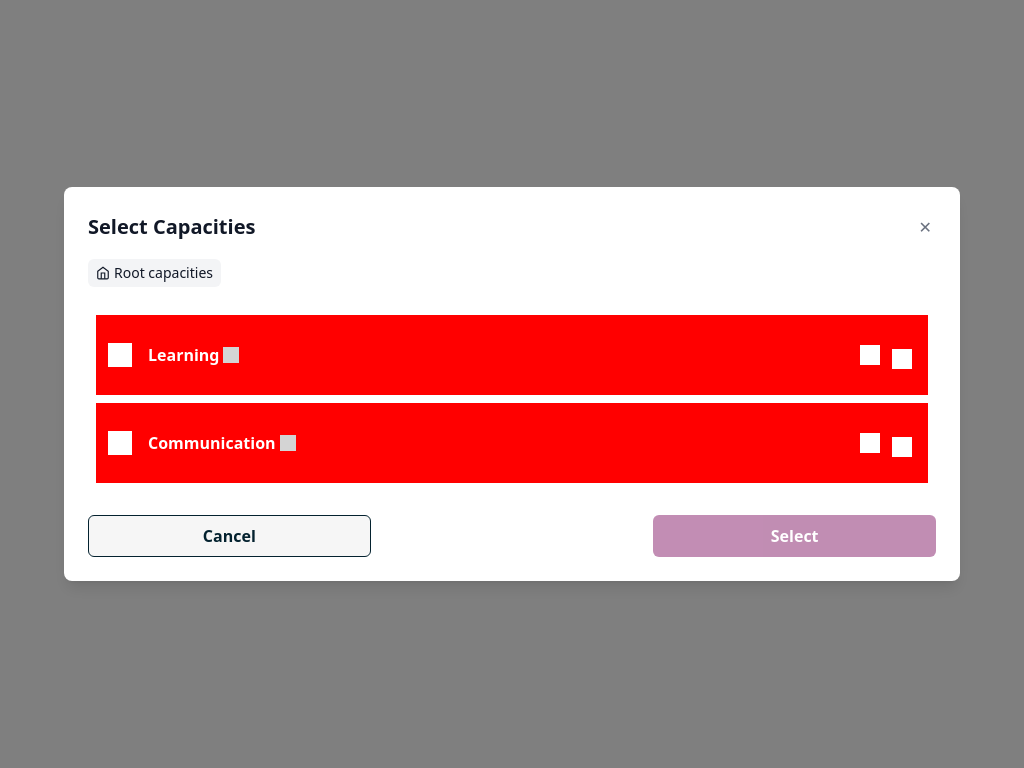
Test: CapacitySelectionModal › Multiple Selection › should update button text with the number of selected capacities
Expected: the text "Learning" is shown, top-left (148, 343), bottom-right (220, 367)
Expected: the text "Communication" is shown, top-left (148, 431), bottom-right (276, 455)
Click the button "Learning" at (184, 355), box top-left (108, 341), bottom-right (916, 369)
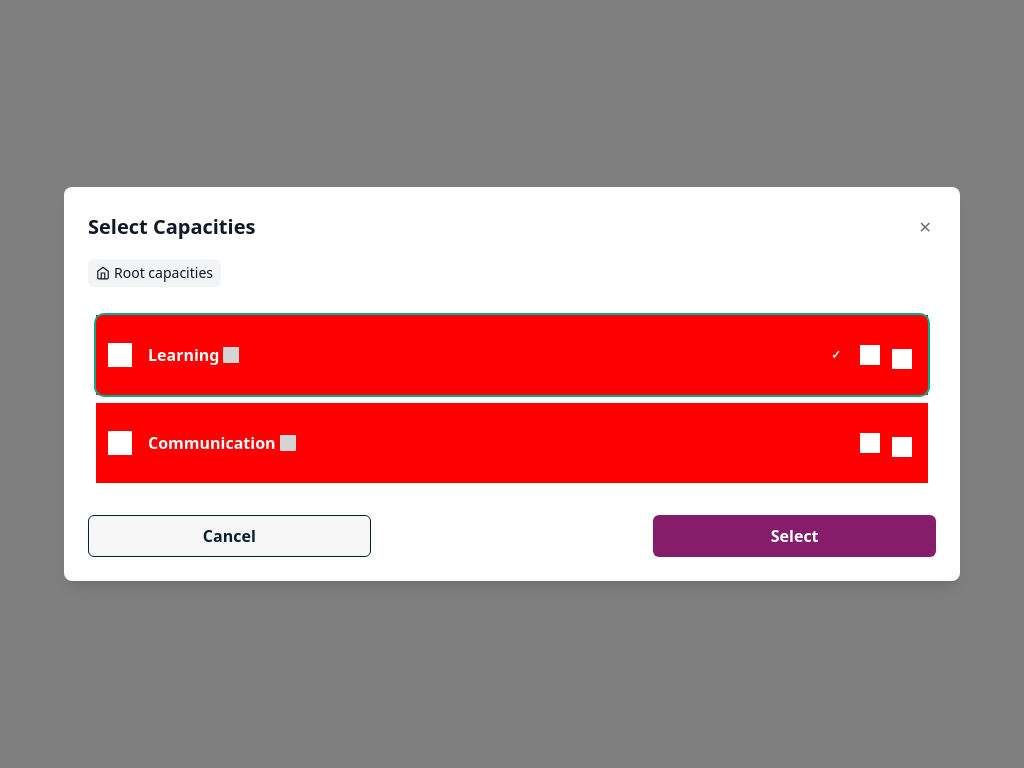
Click the button "Communication" at (212, 443), box top-left (108, 429), bottom-right (916, 457)
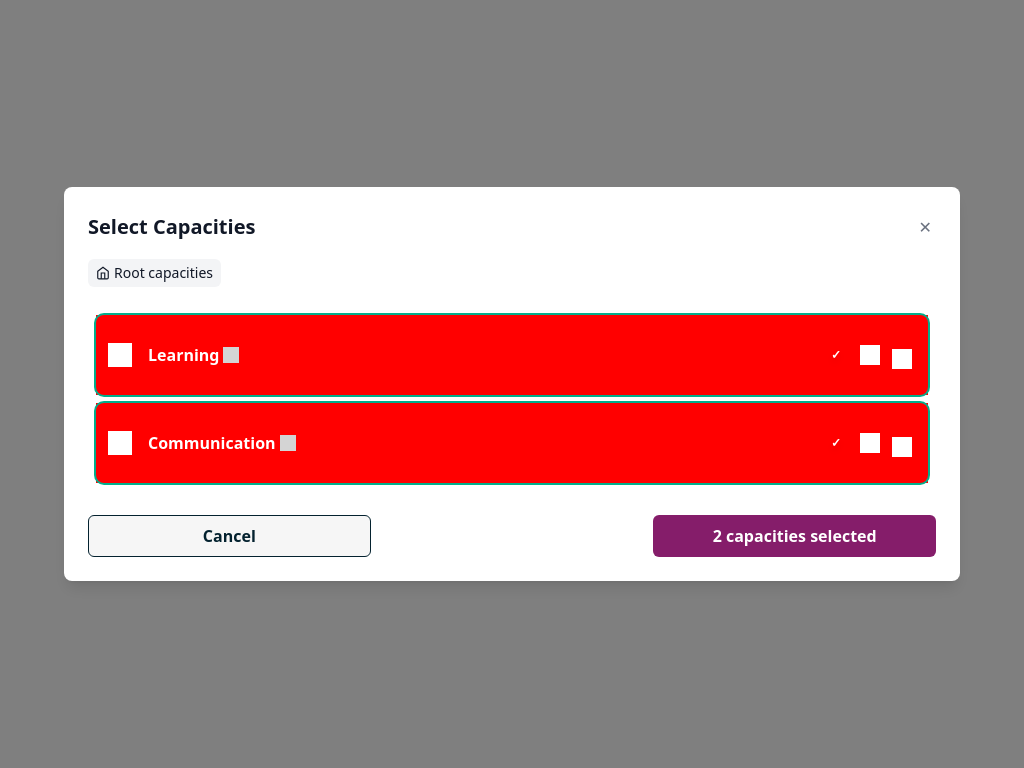
Expected: the text "2 capacities selected" is shown, top-left (713, 525), bottom-right (877, 547)
